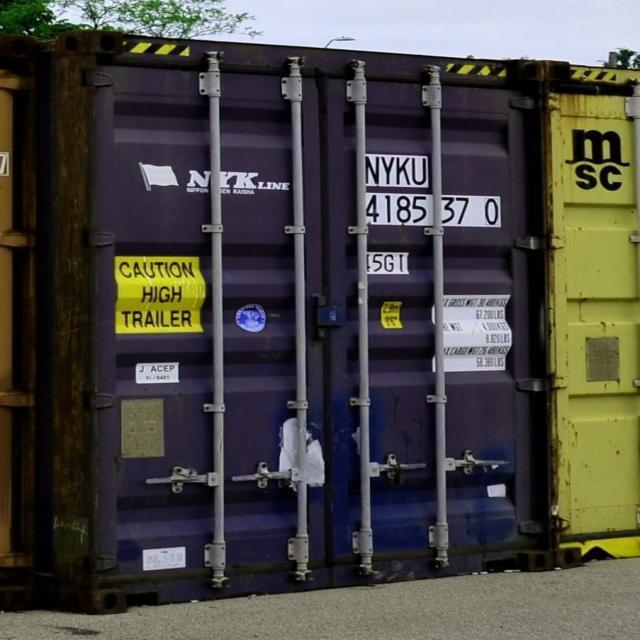ISO: (358, 235, 410, 282)
container_number: (368, 157, 502, 221)
